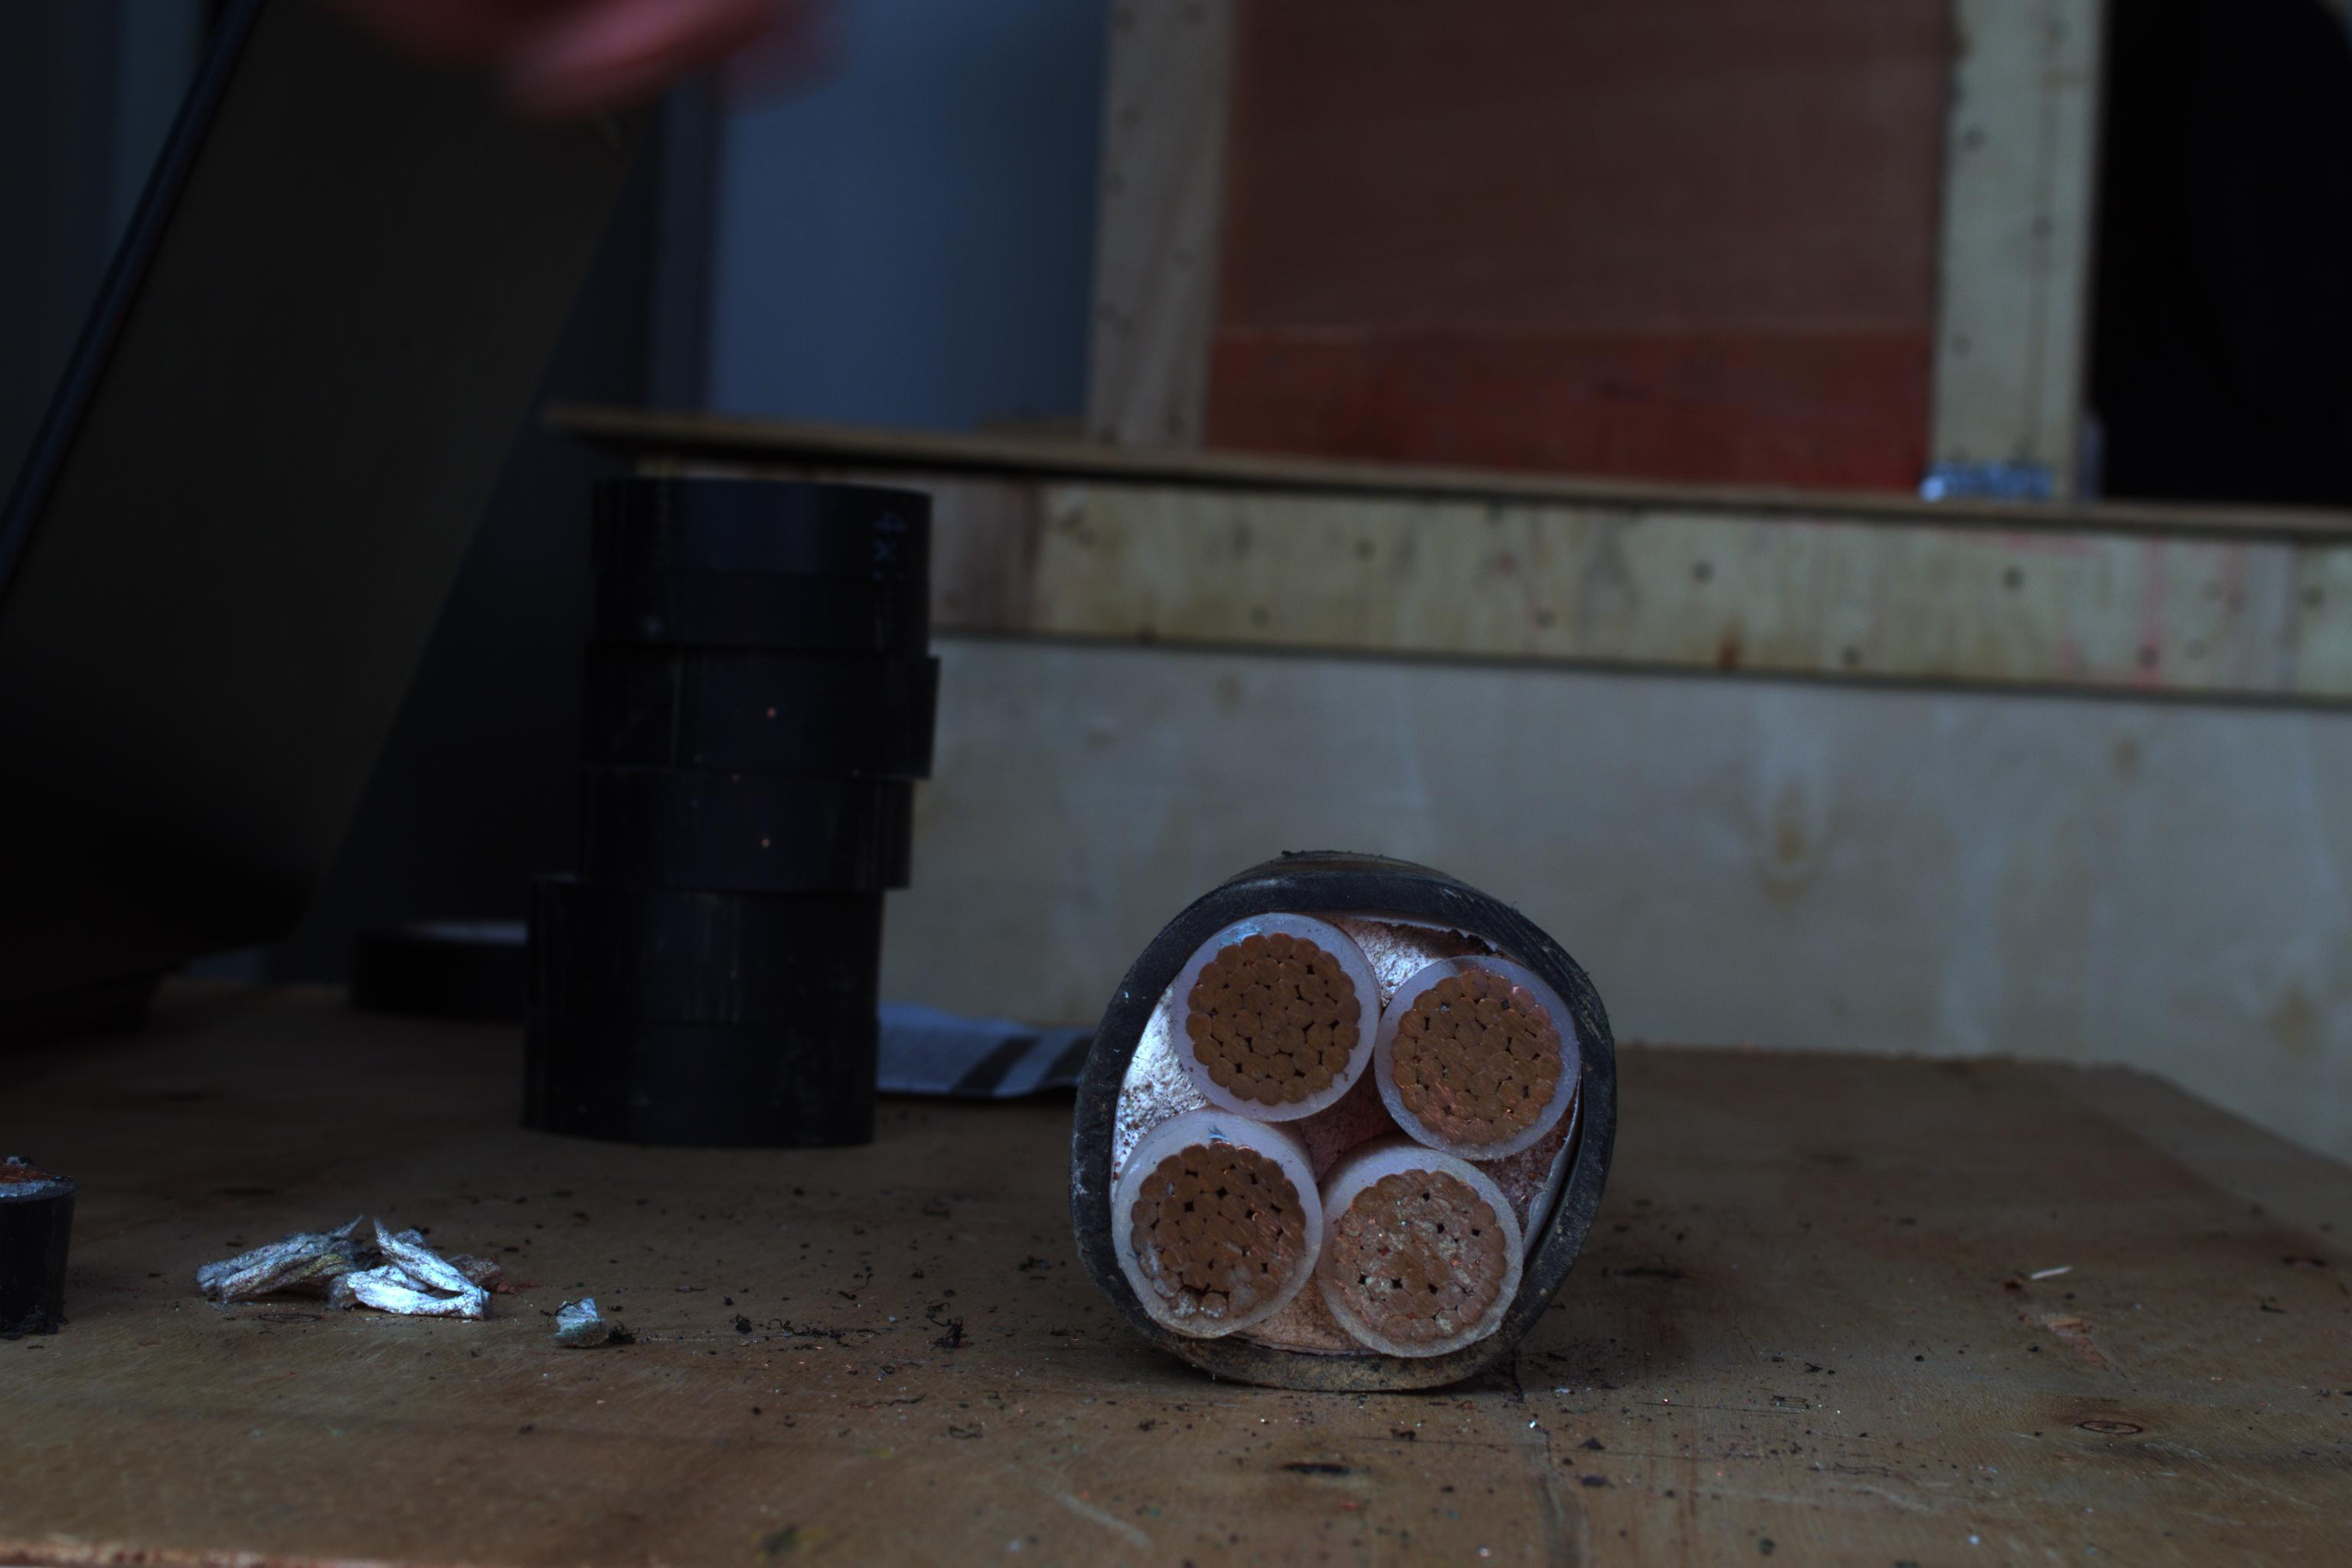YJV_0.6_1kV_4x240: (1055, 870, 1617, 1372)
